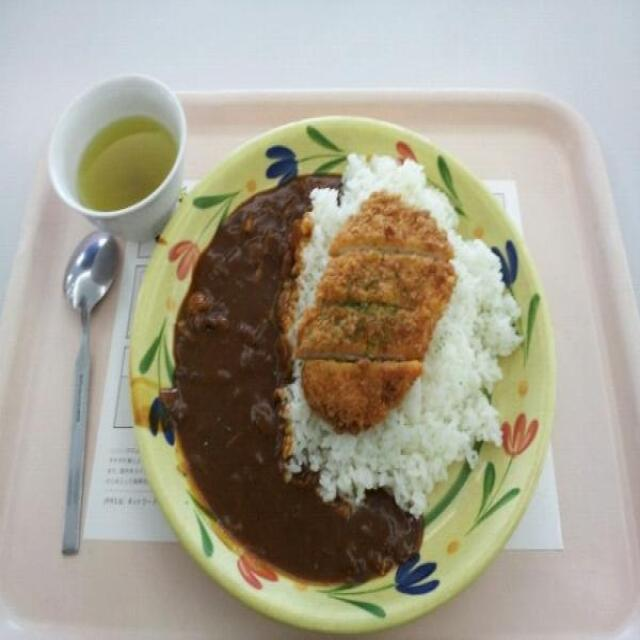猪肉菜式: (125, 106, 557, 640)
